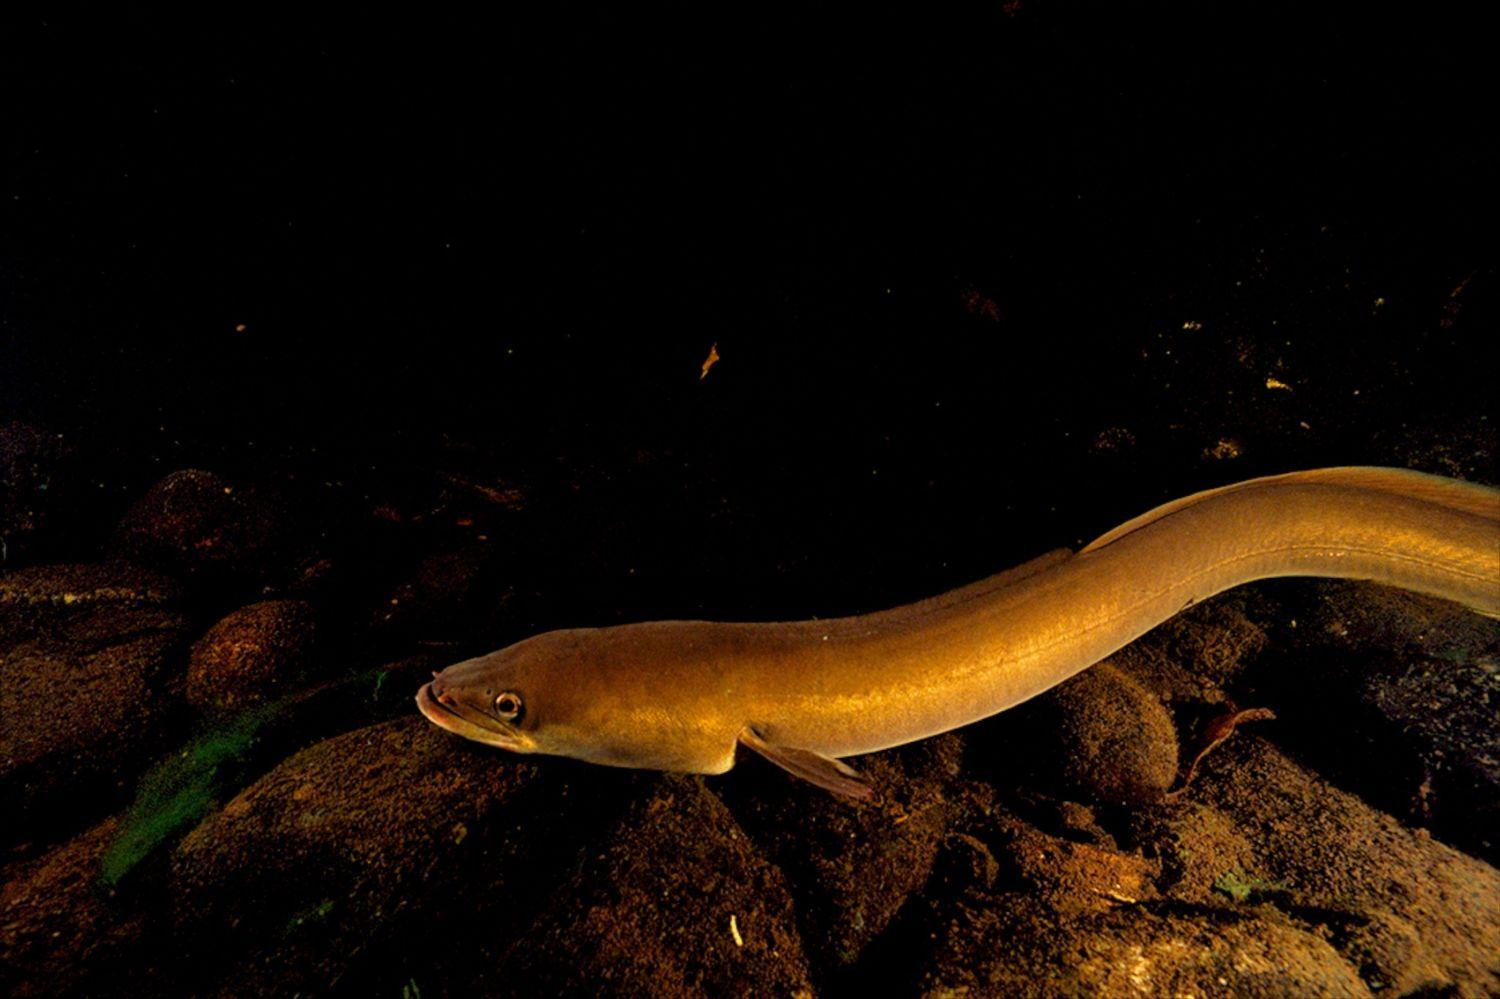Freshwater Eel: (423, 447, 1500, 795)
